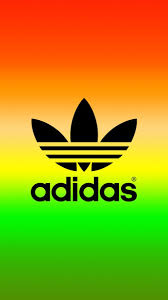adidas: (30, 99, 139, 203)
